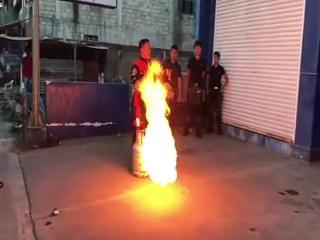Fire: (129, 60, 177, 184)
